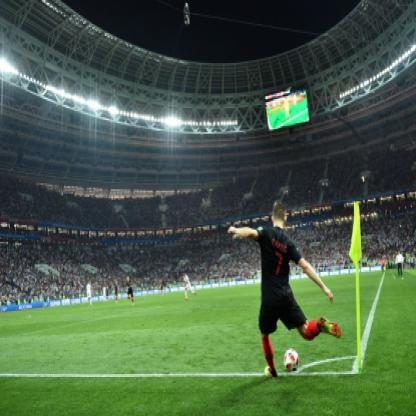corner kick: (244, 165, 378, 404)
